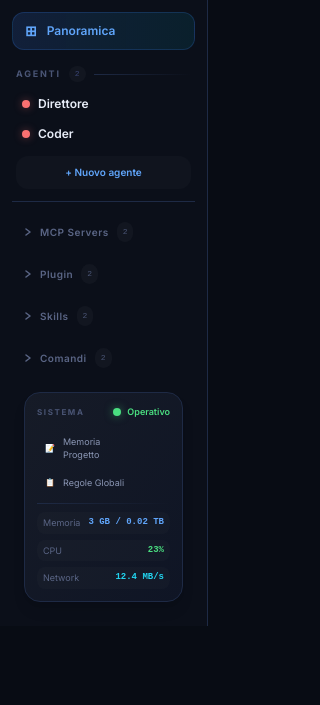
Test: Sidebar › mostra plugin quando espanso
Click the text "Plugin" at (57, 274), box [40, 266, 73, 282]
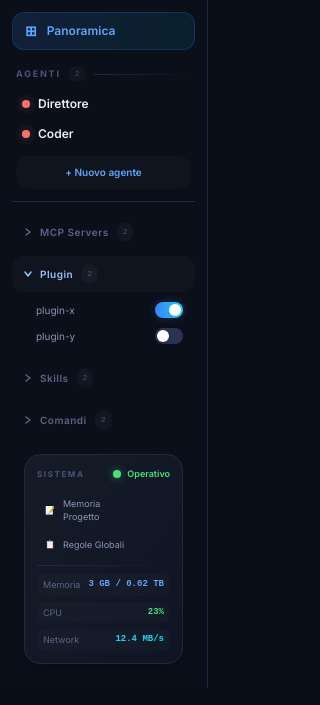
Check: the text "plugin-x" is shown, box [36, 302, 75, 318]
Check: the text "plugin-y" is shown, box [36, 328, 75, 344]
